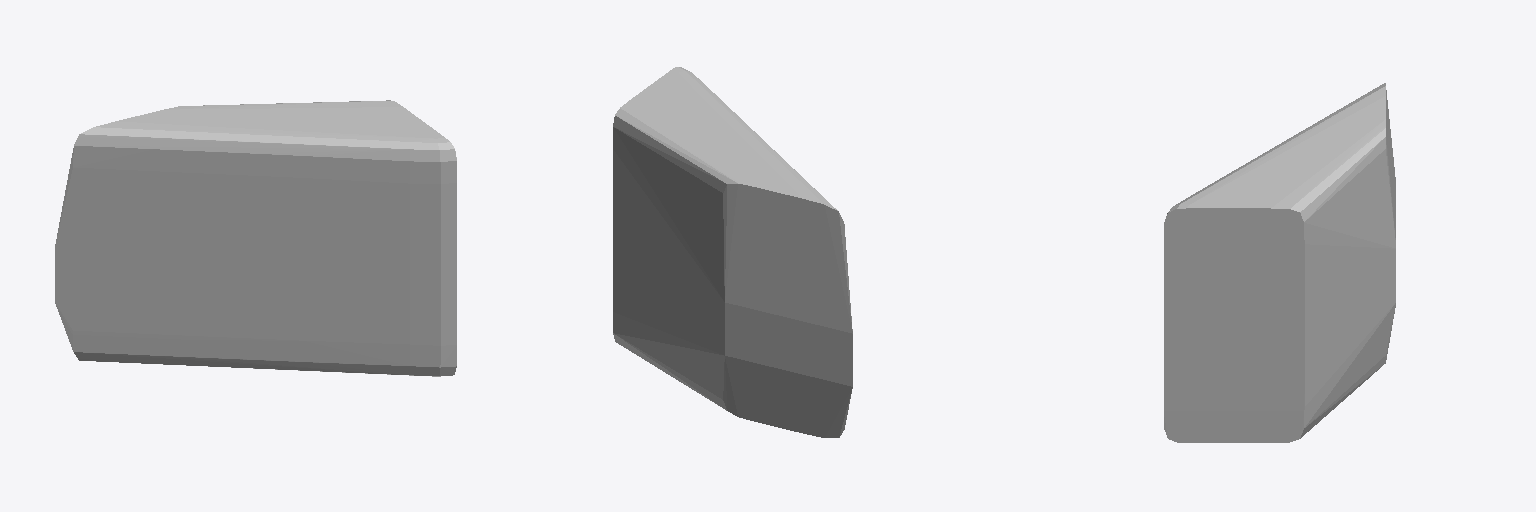
The model's file is pentagon_collision_16.obj.
3 renders of one model, left to right at view 1: azimuth 30°, elevation 25°; view 2: azimuth 150°, elevation 25°; view 3: azimuth 270°, elevation 25°, orthographic.
Bounding box in the file's own units: 0.0084 × 0.0066 × 0.0059.